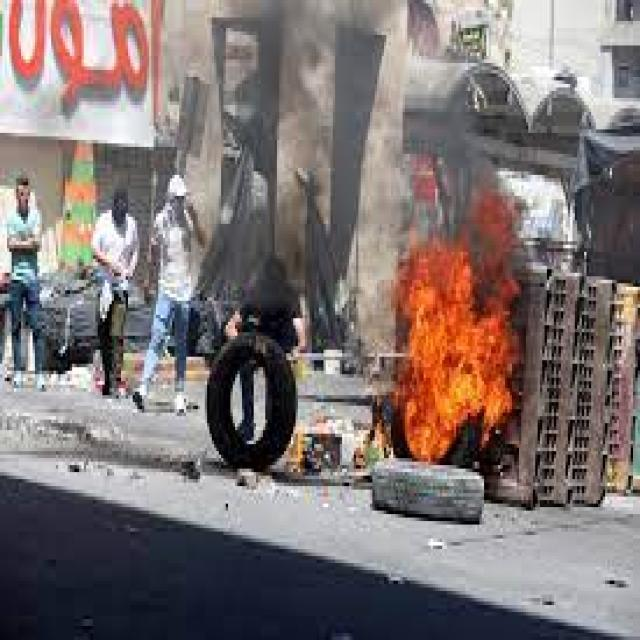Fire: (395, 188, 523, 462), (370, 402, 392, 458), (290, 431, 306, 470)
Smoke: (162, 2, 395, 282), (356, 2, 504, 188)
